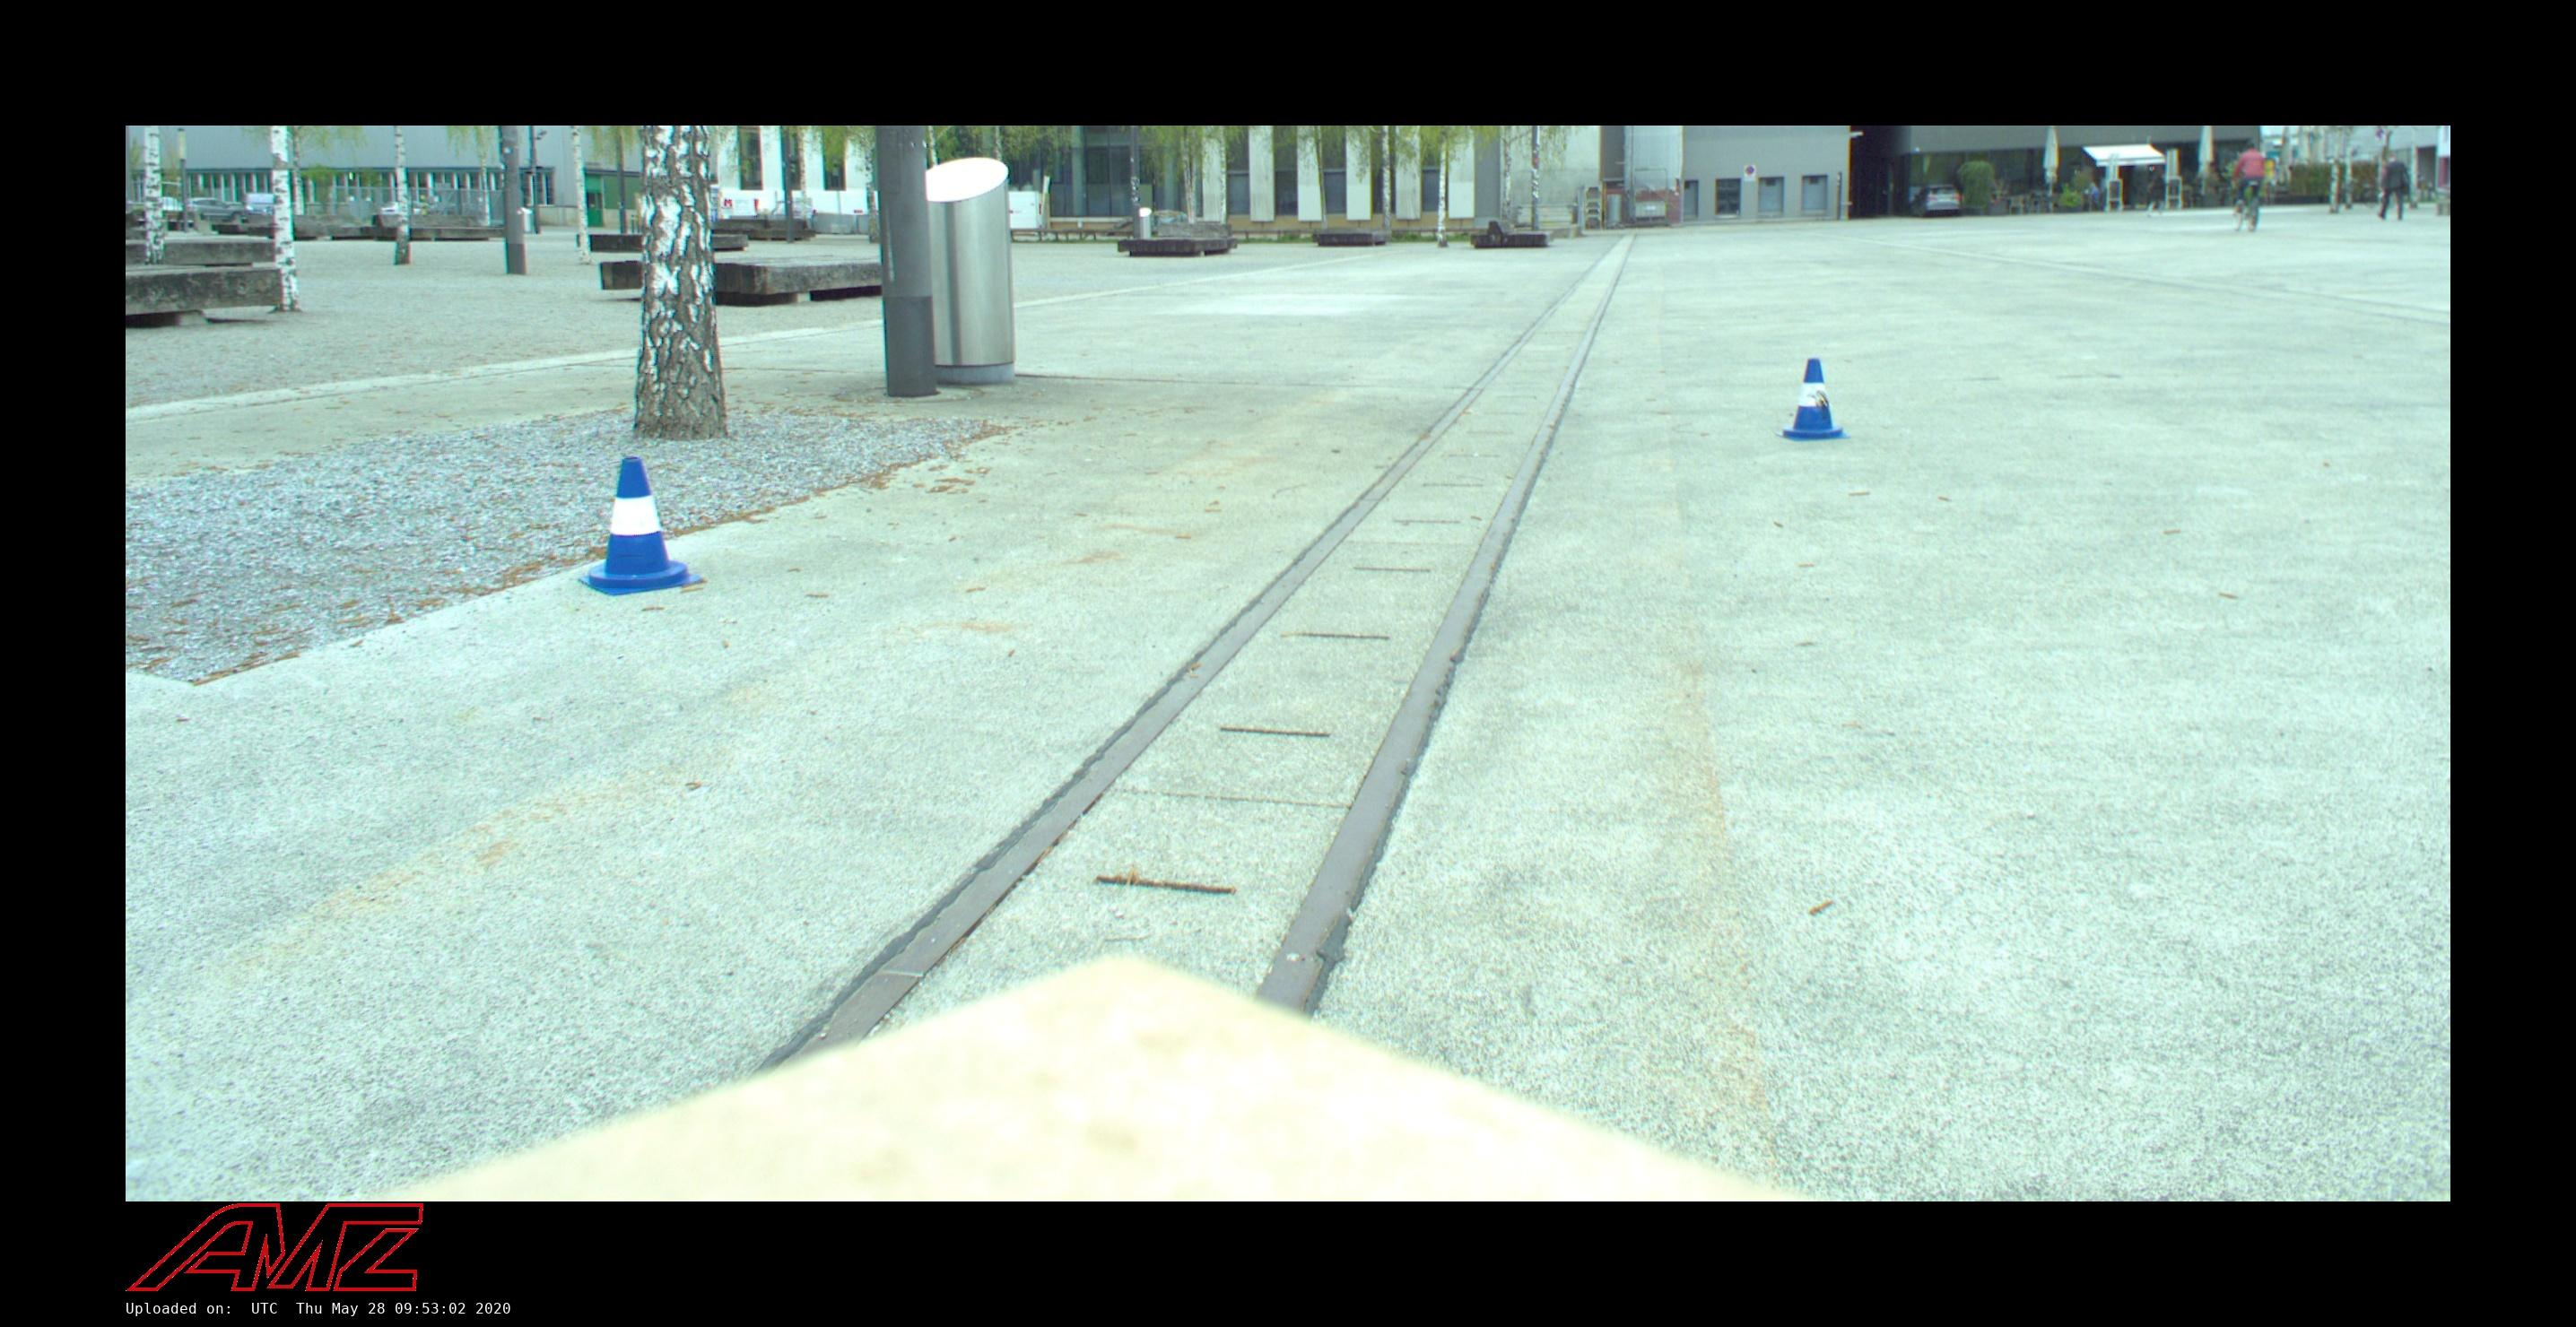blue_cone: (572, 455, 704, 597), (1777, 355, 1852, 442)
